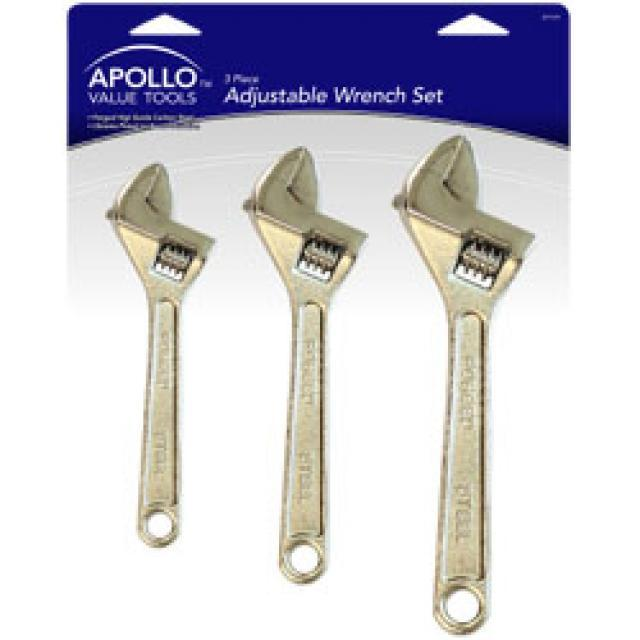wrench: (388, 130, 536, 640), (238, 138, 371, 590), (100, 156, 218, 554)
